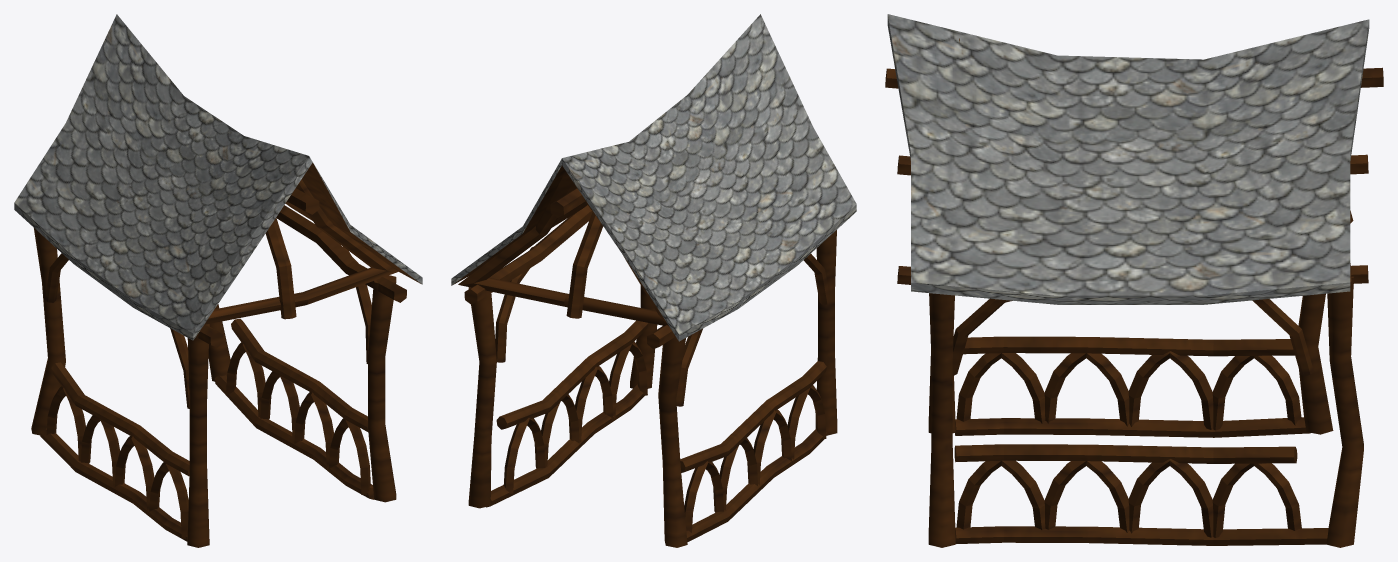
File: grange.FBX
3 renders of one model, left to right at view 1: azimuth 30°, elevation 25°; view 2: azimuth 150°, elevation 25°; view 3: azimuth 270°, elevation 25°, orthographic. The views are drawn at different scales.
Parts seen in each view (by area): view 1: cabane; view 2: cabane; view 3: cabane.
Boxes of the visible parts, x1,y1,x2,y2 form: cabane: (14,14,422,547); cabane: (451,14,856,547); cabane: (885,14,1383,547).
Size of the model in its own units: 2.81 by 4.58 by 4.3.
